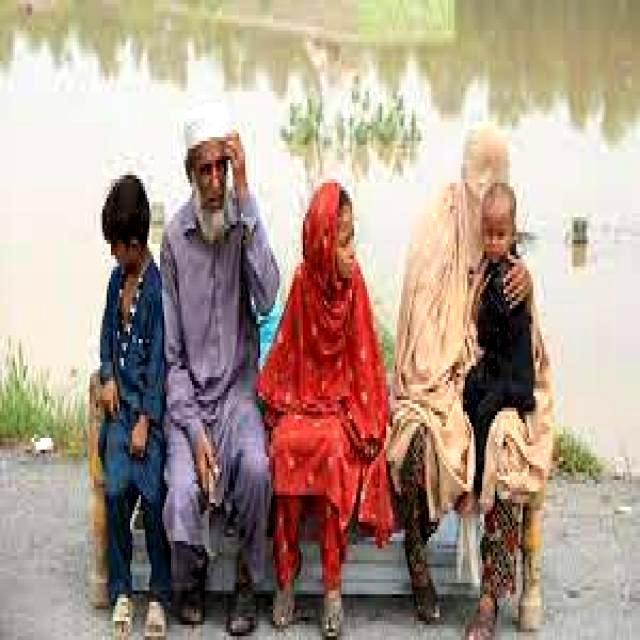civilian: (399, 108, 564, 640), (155, 101, 288, 640), (259, 178, 389, 640), (79, 166, 187, 640), (450, 176, 551, 534)
